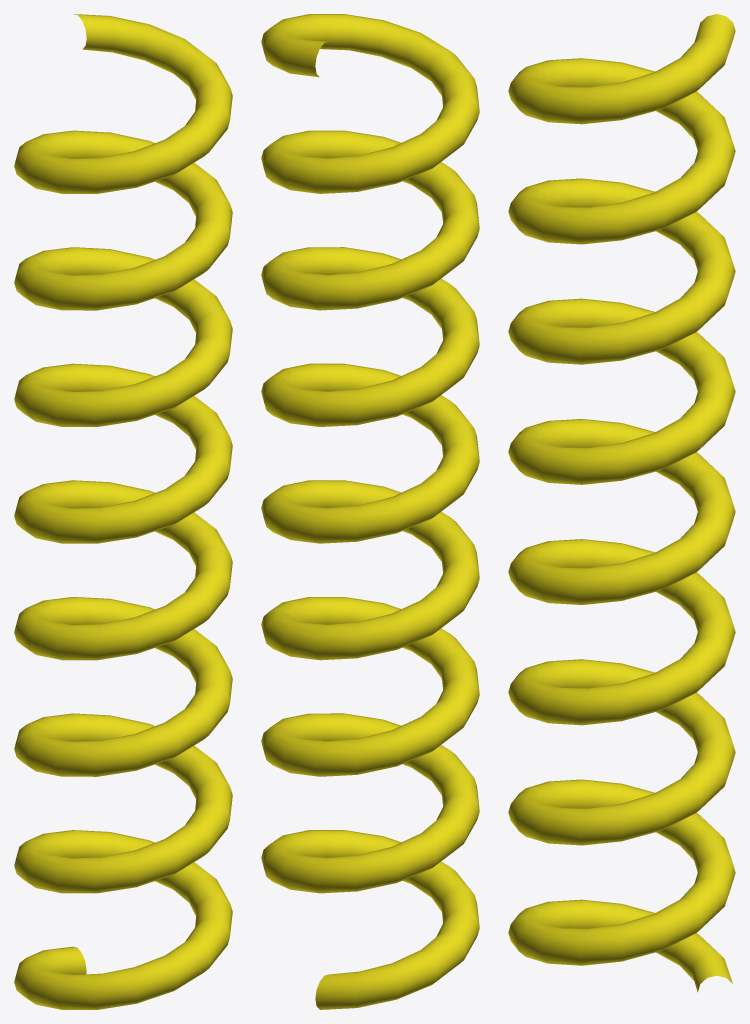
Rendered from spring.glb.
The picture shows the model from 3 angles, left to right: view 1: azimuth 30°, elevation 25°; view 2: azimuth 150°, elevation 25°; view 3: azimuth 270°, elevation 25°; orthographic projection. The views are drawn at different scales.
Parts seen in each view (by area): view 1: Circle; view 2: Circle; view 3: Circle.
Part boxes in pixels (x1,y1,x2,y2): Circle: (14,14,232,1009); Circle: (261,14,479,1009); Circle: (508,14,735,992).
Size of the model in its own units: 0.24 by 1.16 by 0.24.
